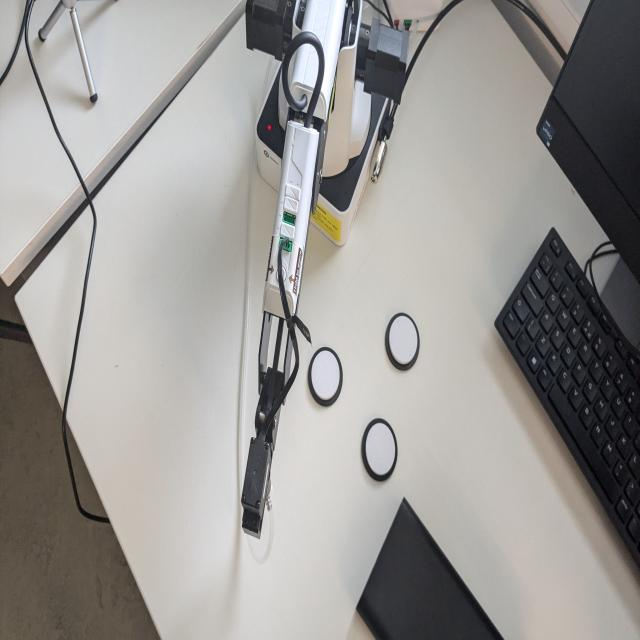Robot-end-effector-HF8z: (235, 428, 276, 542)
